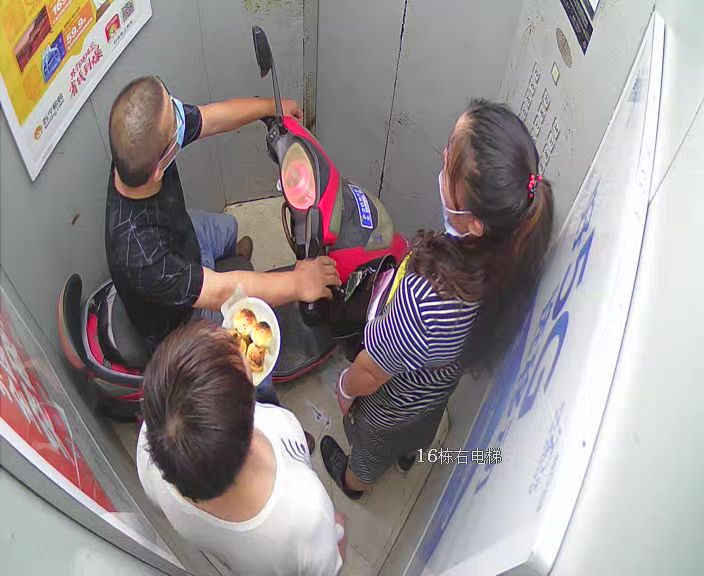Electric-bicycle: (56, 26, 390, 392)
